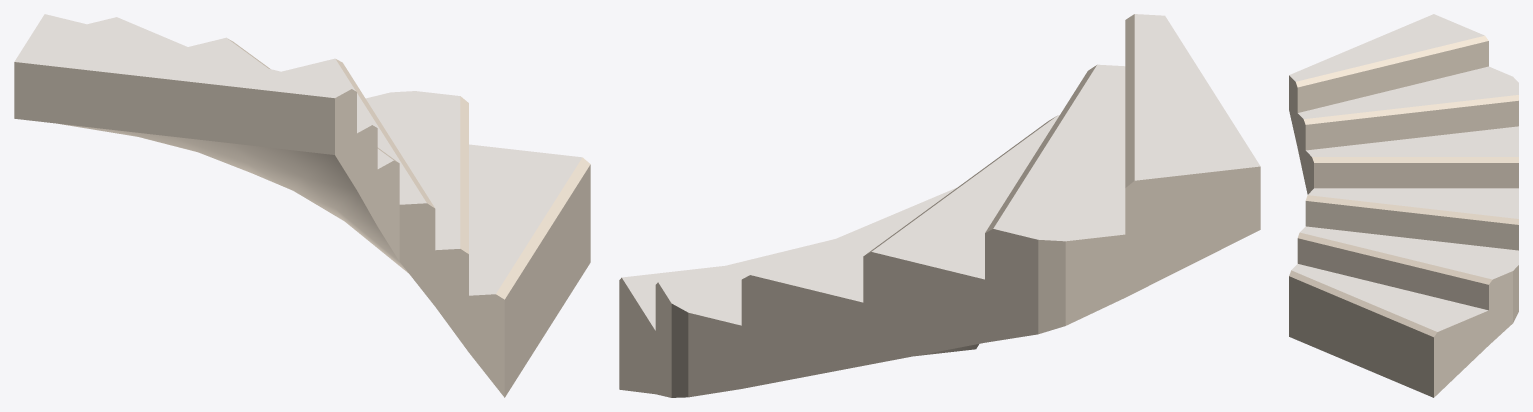
The model's file is Tower_Steps.glb.
The picture shows the model from 3 angles, left to right: view 1: azimuth 30°, elevation 25°; view 2: azimuth 150°, elevation 25°; view 3: azimuth 270°, elevation 25°; orthographic projection. The views are drawn at different scales.
Visible parts, largest first — view 1: Tower_Steps; view 2: Tower_Steps; view 3: Tower_Steps.
Boxes of the visible parts, x1=… form: Tower_Steps: x1=14, y1=14, x2=590, y2=397; Tower_Steps: x1=619, y1=14, x2=1260, y2=397; Tower_Steps: x1=1289, y1=14, x2=1518, y2=397.
Bounding box in the file's own units: 2.12 × 1.2 × 1.19.
